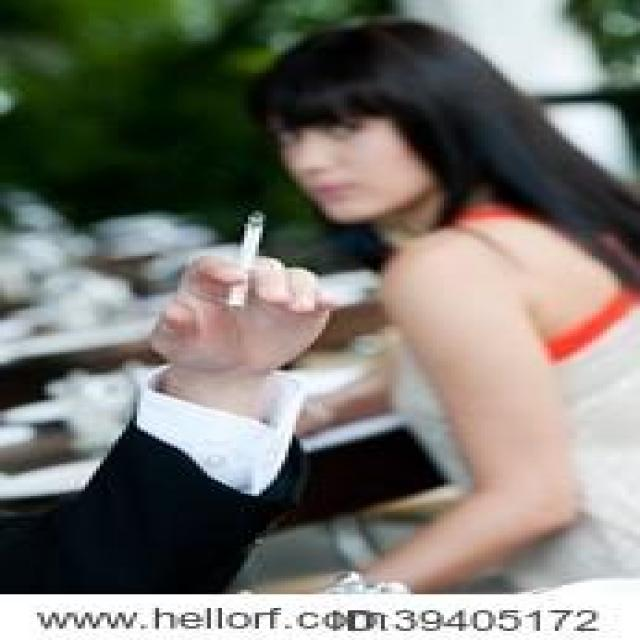Сигарета: (228, 211, 264, 310)
Тело: (137, 21, 640, 594)
